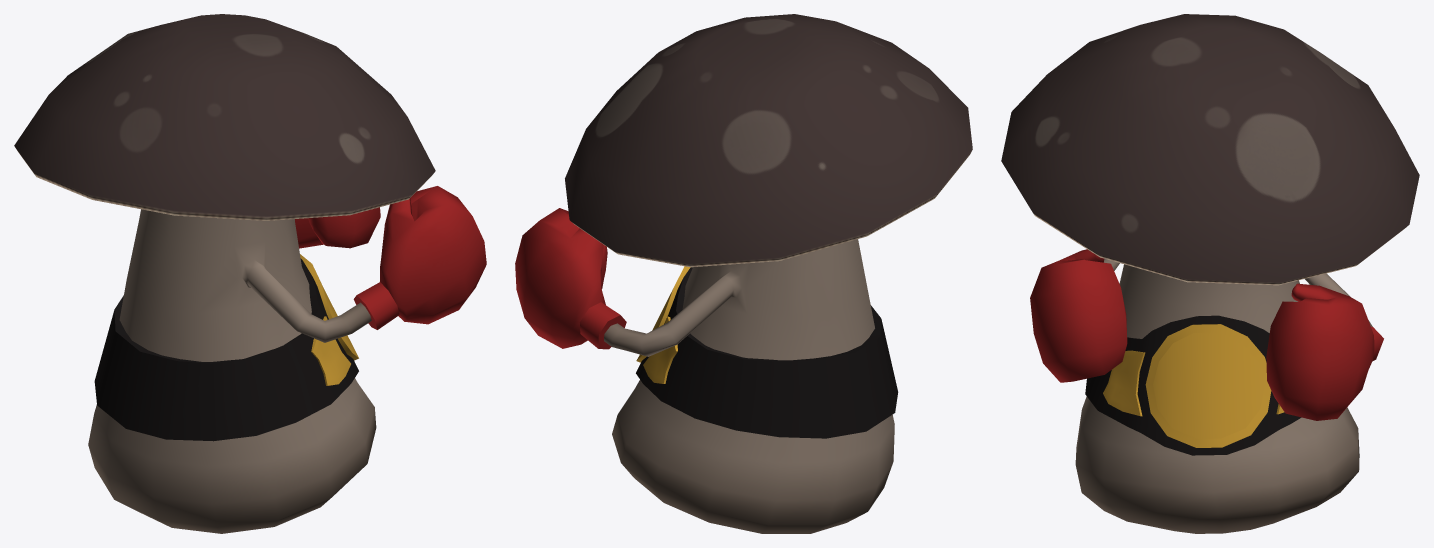
Rendered from chungus_lo.fbx.
3 renders of one model, left to right at view 1: azimuth 30°, elevation 25°; view 2: azimuth 150°, elevation 25°; view 3: azimuth 270°, elevation 25°, orthographic.
Visible parts, largest first — view 1: Chungus_lo; view 2: Chungus_lo; view 3: Chungus_lo.
Part boxes in pixels (bbox=[...]): Chungus_lo: bbox=[14, 14, 486, 533]; Chungus_lo: bbox=[515, 14, 972, 533]; Chungus_lo: bbox=[1001, 14, 1419, 533].
Bounding box in the file's own units: 1.66 × 1.99 × 1.57.
1 material, 1 textured.
